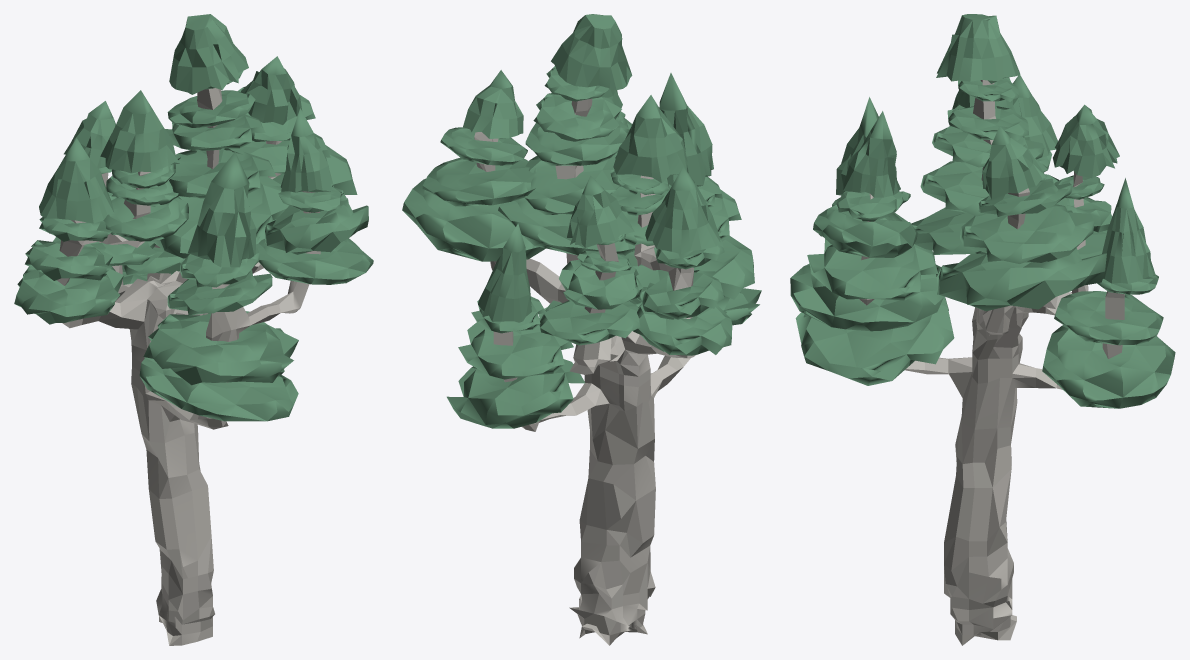
The model's file is treePine1.fbx.
The picture shows the model from 3 angles, left to right: view 1: azimuth 30°, elevation 25°; view 2: azimuth 150°, elevation 25°; view 3: azimuth 270°, elevation 25°; orthographic projection. The views are drawn at different scales.
Parts seen in each view (by area): view 1: pCube56, pSolid56, pSolid55, pCone4, pCone2, pSolid69, pCone5, pCone6, pSolid58, pSolid57, pSolid76, pSolid64 (+18 smaller); view 2: pCube56, pSolid66, pSolid52, pCone2, pSolid67, pSolid53, pCone6, pCone5, pSolid69, pSolid60, pCone8, pSolid76 (+19 smaller); view 3: pCube56, pSolid66, pSolid55, pSolid52, pSolid53, pSolid56, pSolid57, pSolid67, pCone2, pSolid58, pCone8, pCone7 (+15 smaller).
Part boxes in pixels (x1,y1,x2,y2): pCube56: (57,88,320,645); pSolid56: (143,311,298,385); pSolid55: (139,358,298,421); pCone4: (188,151,256,267); pCone2: (169,14,248,94); pSolid69: (14,264,123,324); pCone5: (100,90,180,173); pCone6: (39,138,114,223); pSolid58: (265,198,368,254); pSolid57: (256,238,373,284); pSolid76: (169,150,276,198); pSolid64: (167,269,272,315); pCube56: (474,98,695,645); pSolid66: (447,359,584,428); pSolid52: (402,178,545,261); pCone2: (551,14,632,90); pSolid67: (458,318,573,379); pSolid53: (422,157,536,206); pCone6: (645,166,720,253); pCone5: (613,95,687,182); pSolid69: (633,302,732,355); pSolid60: (539,300,640,345); pCone8: (478,223,531,322); pSolid76: (525,152,621,214); pCube56: (859,80,1124,645); pSolid66: (1042,325,1175,408); pSolid55: (795,296,954,385); pSolid52: (937,248,1106,311); pSolid53: (960,198,1094,263); pSolid56: (790,263,943,331); pSolid57: (807,239,938,300); pSolid67: (1054,291,1163,345); pCone2: (936,14,1020,83); pSolid58: (813,205,917,257); pCone8: (1102,178,1155,283); pCone7: (1053,104,1119,178).
Size of the model in its own units: 7.89 by 14.65 by 8.12.
